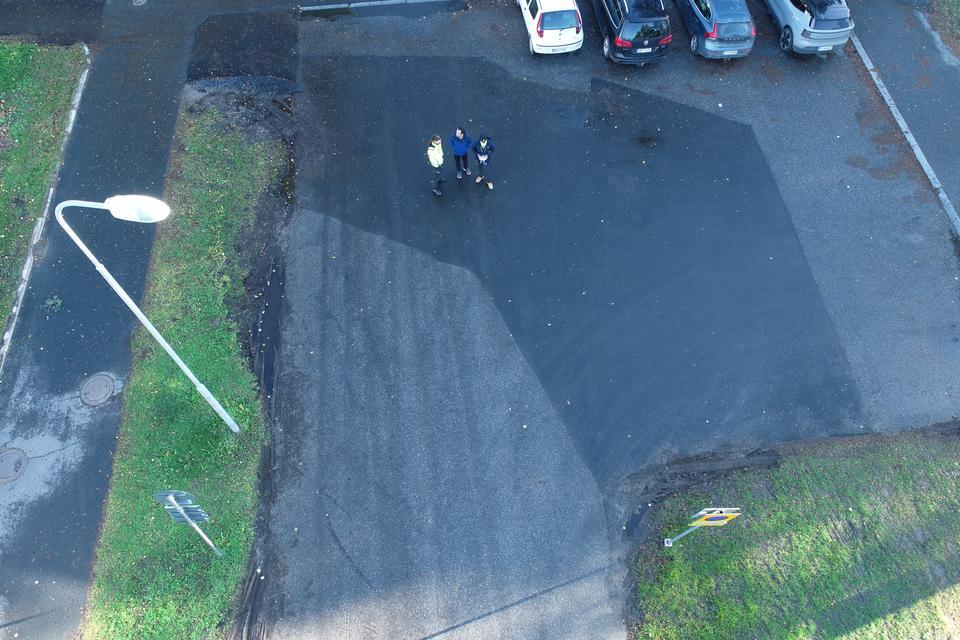intersection: (22, 0, 279, 148)
